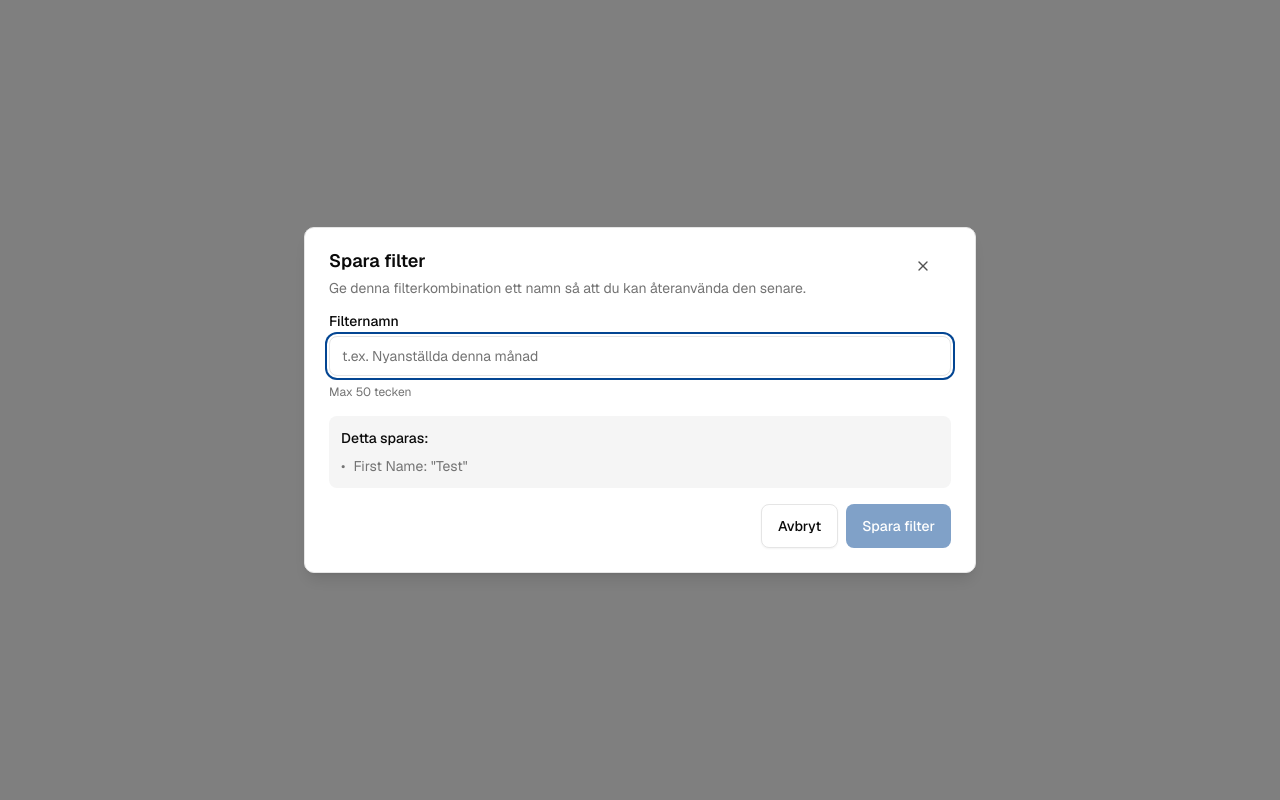
Test: Story 20.6: Saved Filters Integration › shows error when saving filter with duplicate name
Enter a name that duplicates an existing filter
Type "New Hires" into the field labelled "Filternamn". click: [640, 356]
box: [329,336,951,376]
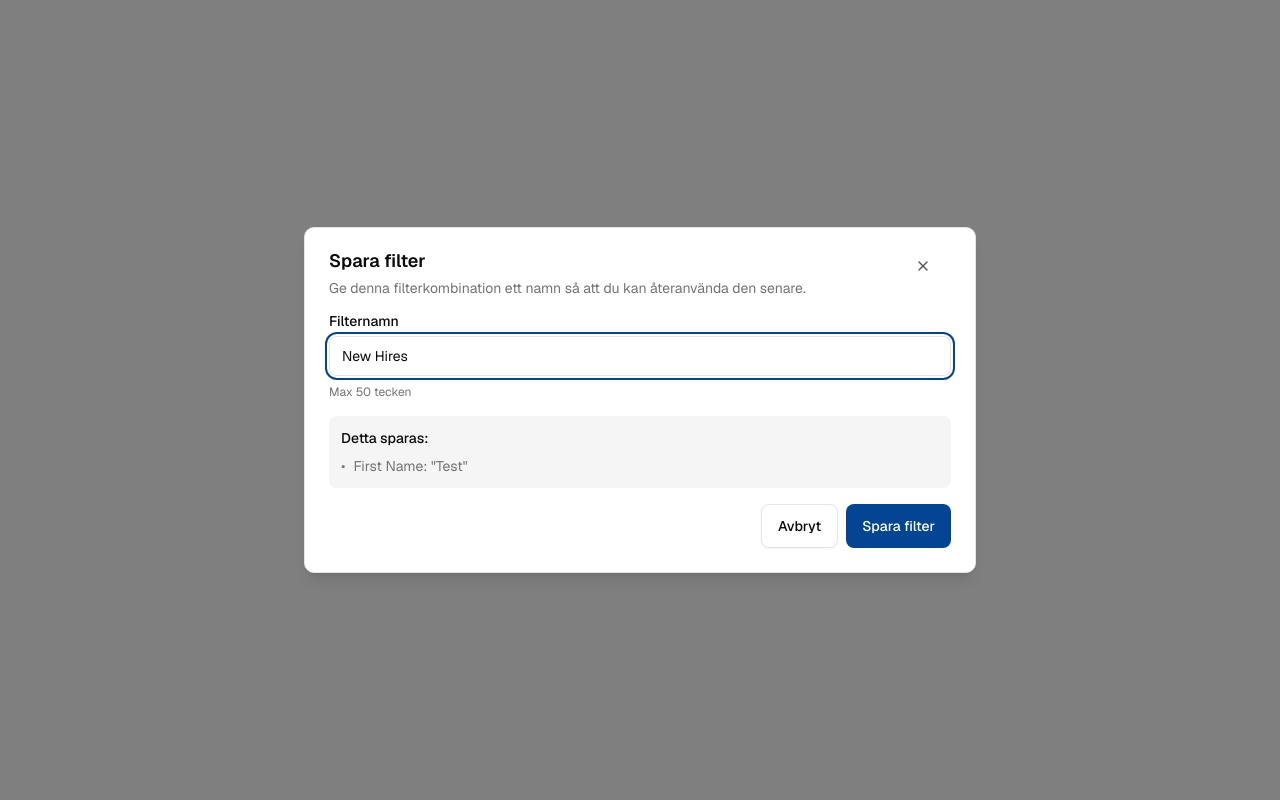
Click the button "Spara filter". click: [899, 526]
box: [846,504,951,548]
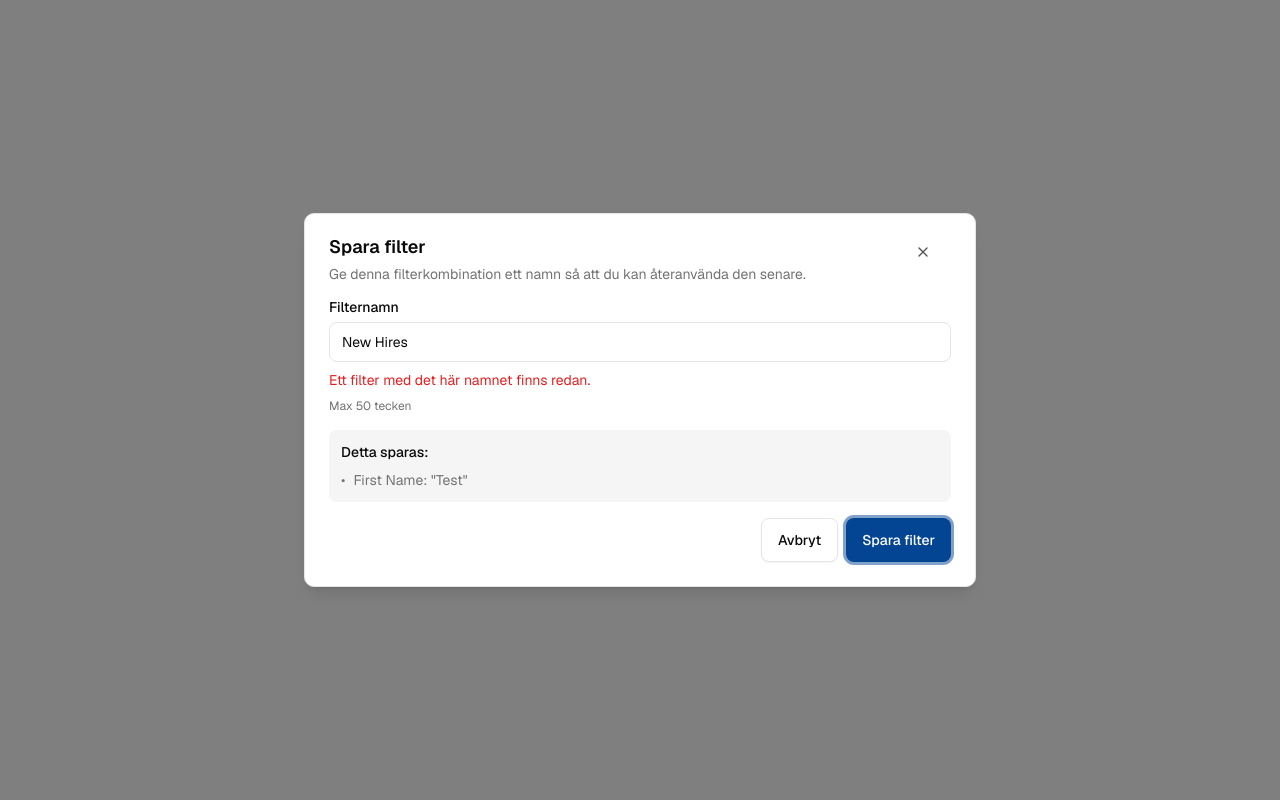
expect the text "Ett filter med det här namnet finns redan." is shown: met, box [329,371,590,389]
